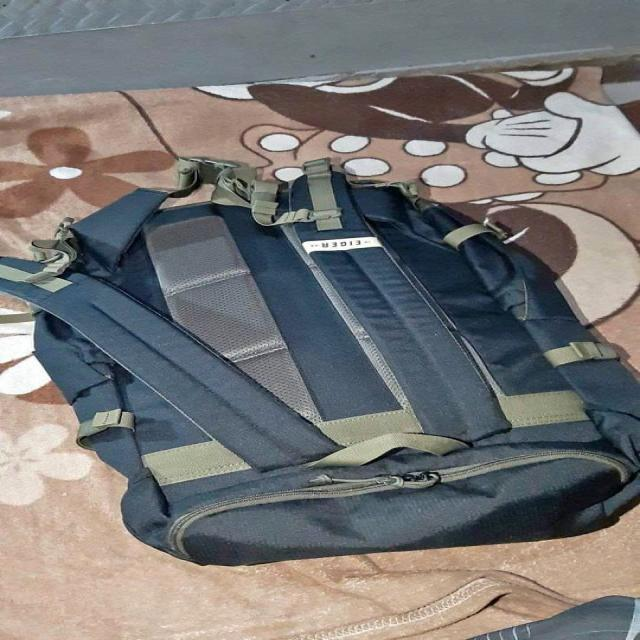bag: (31, 180, 640, 561)
